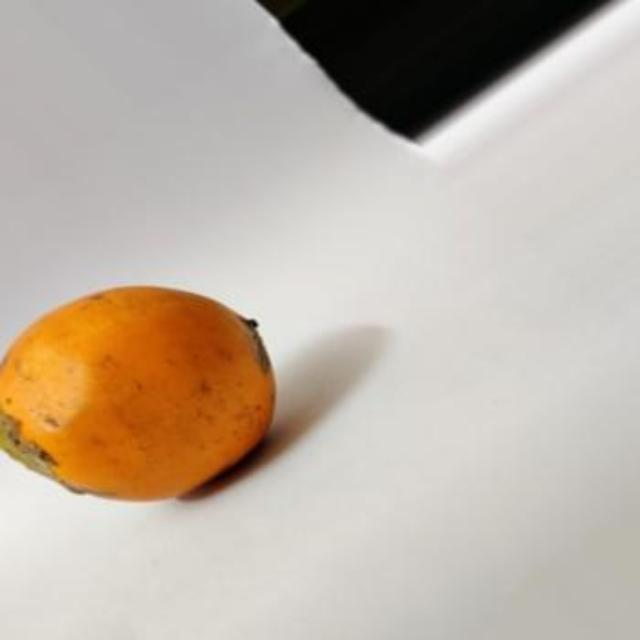good: (0, 289, 276, 505)
